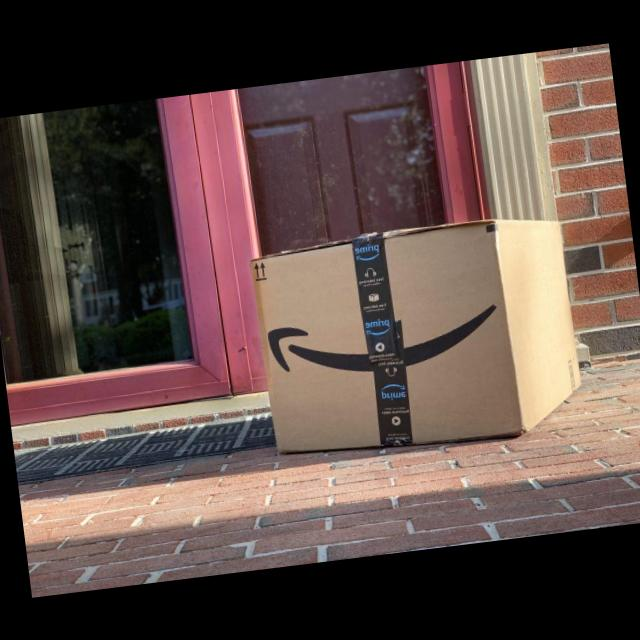box: (248, 208, 590, 468)
